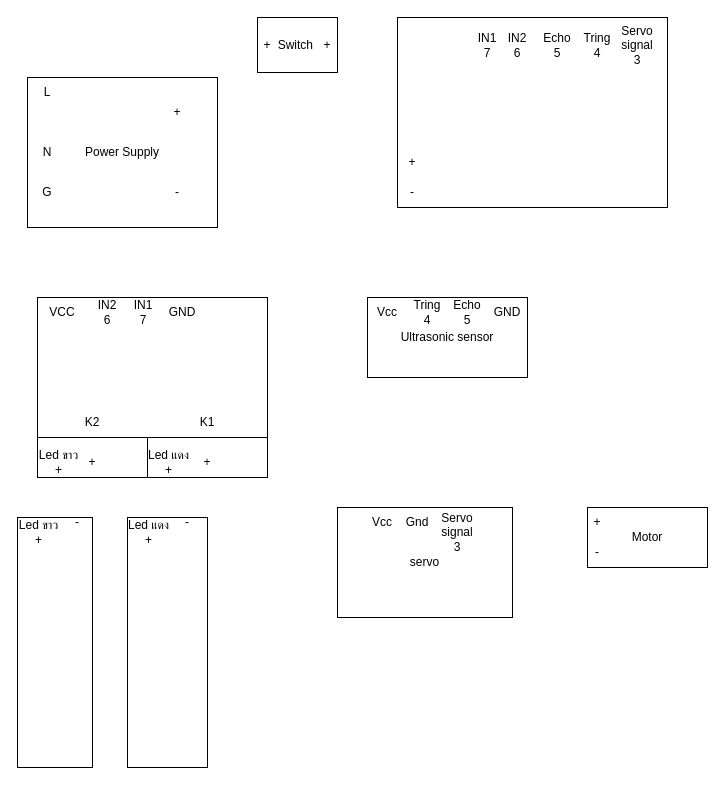
The diagram is 725 pixels wide and 785 high, and some of its shapes have lost their labels. Here are the shapes that lost their labels. From the top down, the box of each, then its label:
(396, 16, 668, 208): Arduino
(36, 296, 268, 478): Relay
